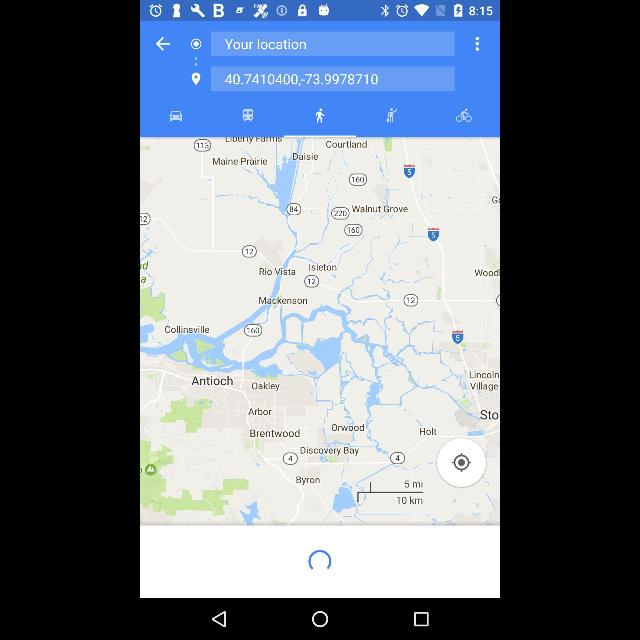icon: (451, 453, 474, 473), (309, 550, 331, 570), (312, 610, 328, 628), (212, 610, 226, 628), (156, 36, 170, 52), (189, 72, 203, 86), (414, 612, 428, 626), (456, 110, 472, 122), (387, 108, 398, 122), (190, 38, 202, 50), (170, 110, 182, 122), (243, 108, 253, 122), (316, 108, 324, 122), (474, 36, 480, 52), (194, 57, 198, 67)
input: (211, 32, 454, 56), (212, 68, 454, 92)
map: (140, 138, 500, 524)
multitab: (140, 94, 500, 136)
panel: (140, 598, 500, 640)
text: (225, 74, 378, 86), (226, 39, 306, 50)
toolbar: (140, 22, 500, 94)
uppertaskbar: (140, 0, 500, 20)
